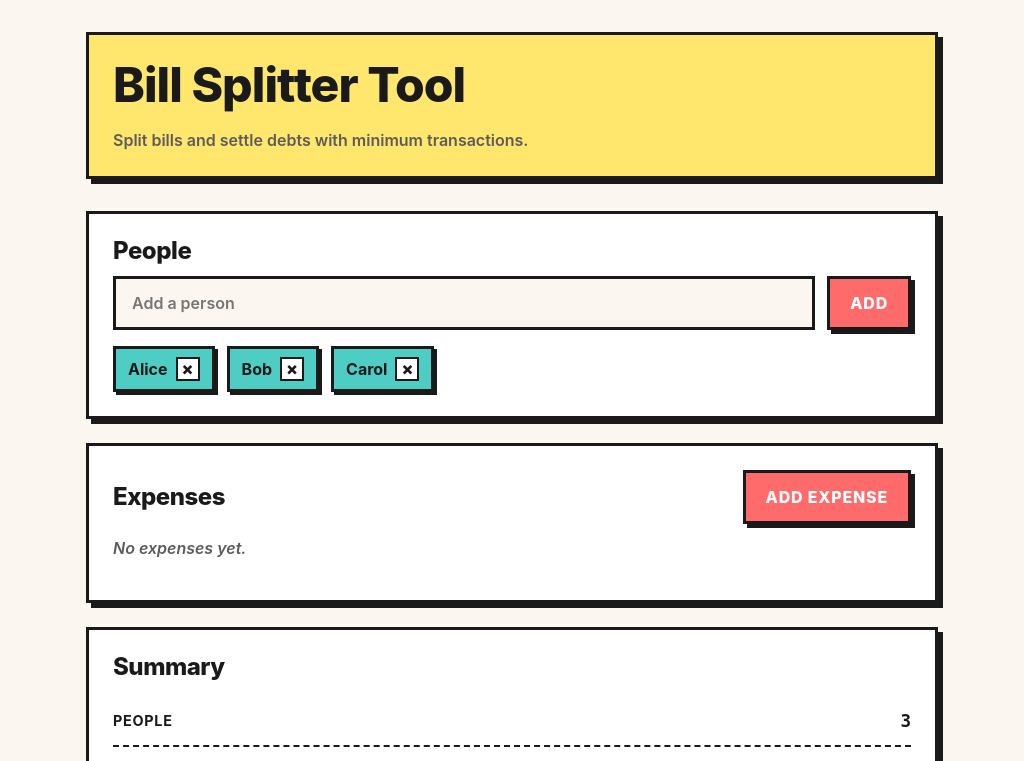
Scenario: App › allows adding people and expenses, then shows settlement
This screenshot has width=1024, height=761.
Add a new person
Type "Dave" into the field named "Person name" at coordinates (464, 303), box [113,276,815,330]
Click the button "Add" at coordinates (869, 303), box [827,276,911,330]
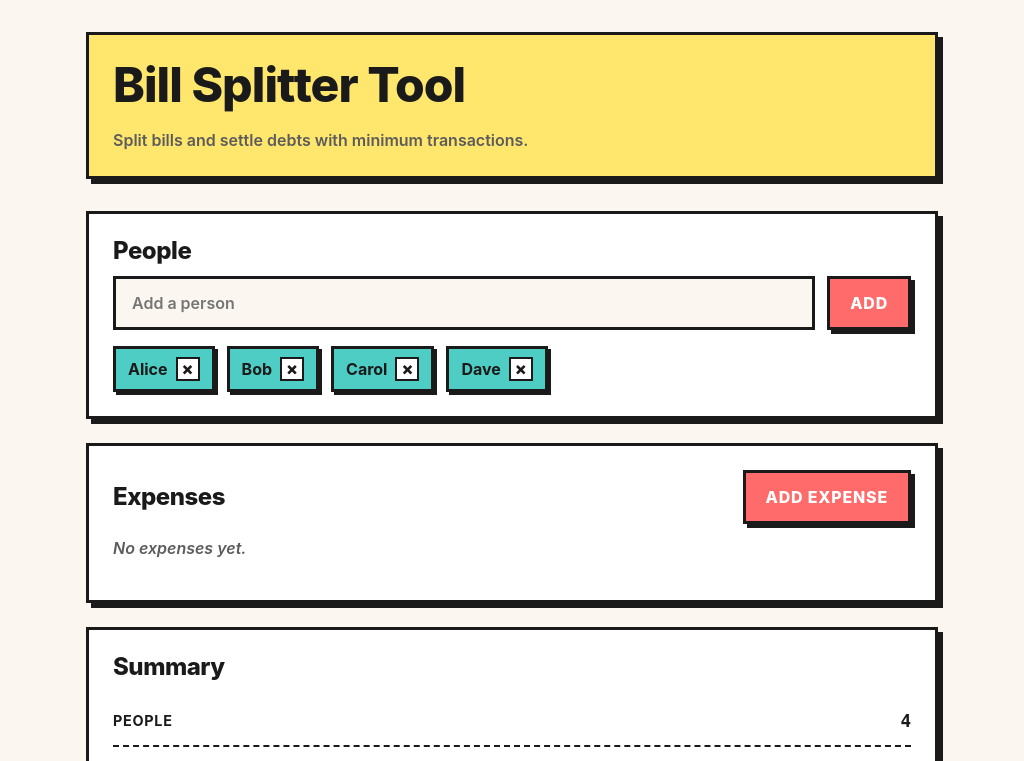
Open the expense modal
Click the button "Add expense" at coordinates (827, 497), box [743,470,911,524]
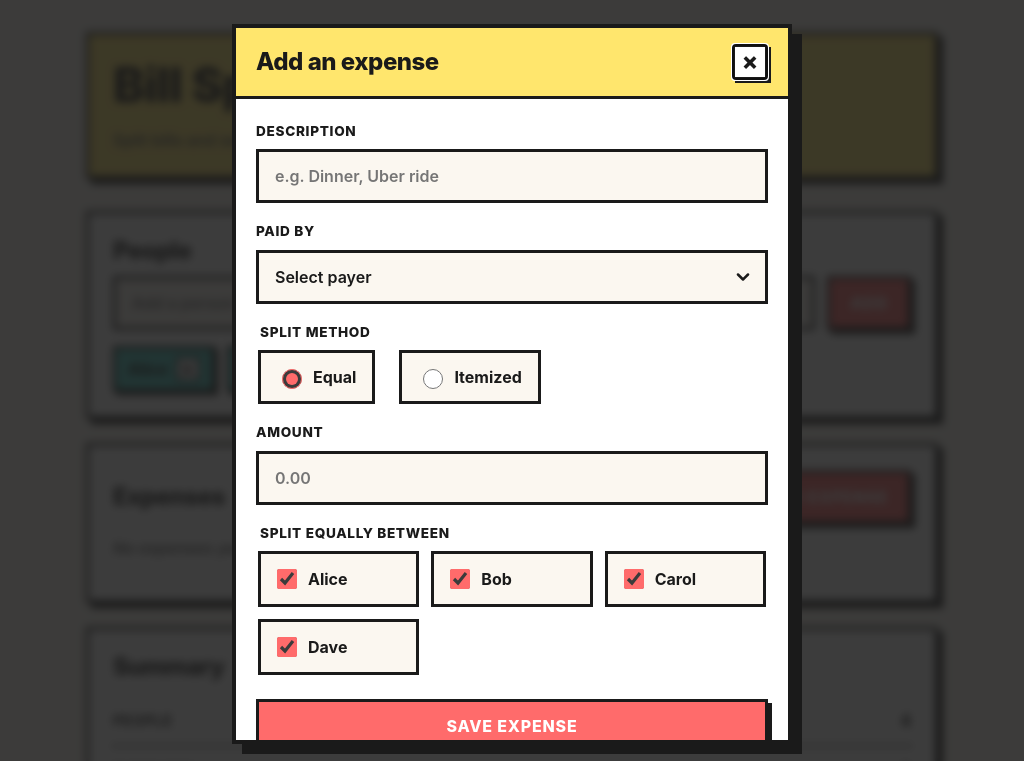
Add an expense
Type "Taxi" into the field with placeholder "e.g. Dinner, Uber ride" at coordinates (512, 176), box [256,149,768,203]
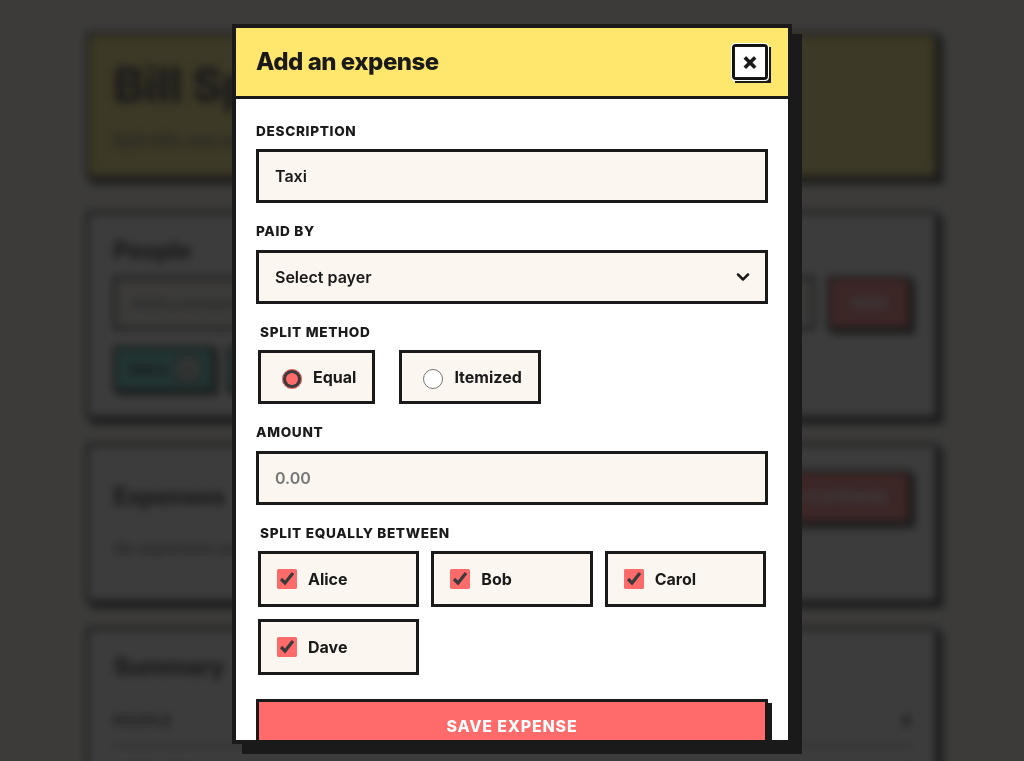
Type "60" into the number field with placeholder "0.00" at coordinates (512, 478), box [256,451,768,505]
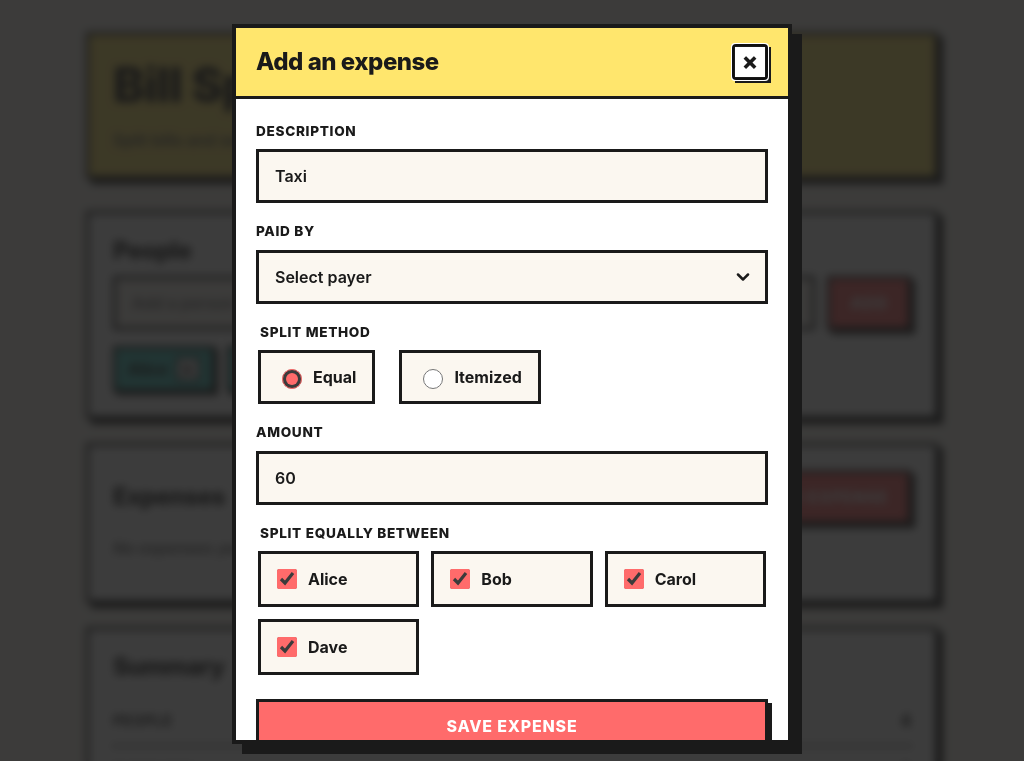
Select "Alice" in the dropdown labelled "Paid by" at coordinates (512, 277), box [256,250,768,304]
(page scrolled)
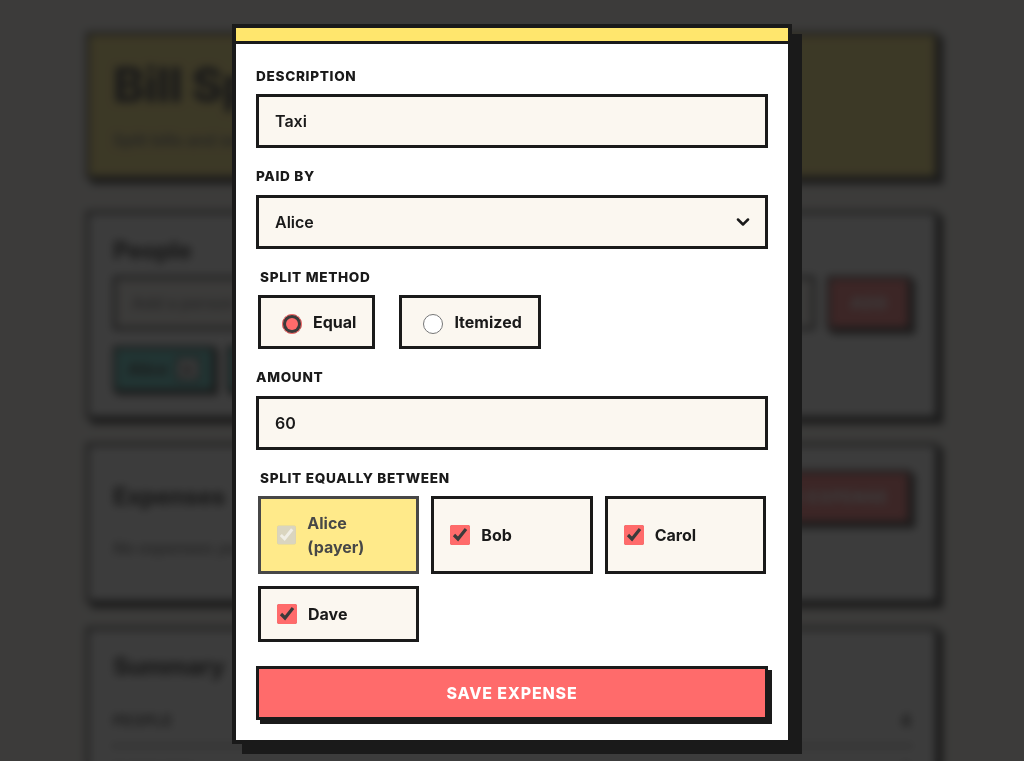
Click the button "Save expense" at coordinates (512, 693), box [256,666,768,720]
(page scrolled)
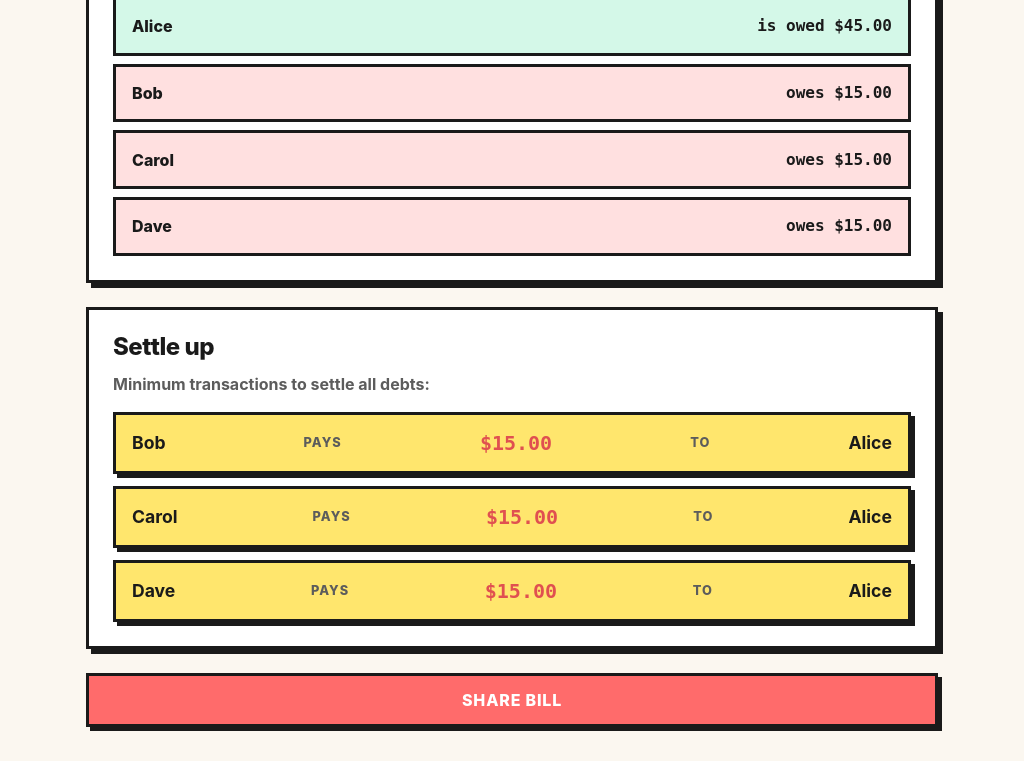
Result: the text "is owed $45.00" is shown at [757,14,892,38]
Result: the text "owes $15.00" is shown 3 times at [786,81,892,105]; [786,148,892,172]; [786,214,892,238]
Result: the text "Minimum transactions to settle all debts:" is shown at [113,374,430,394]
